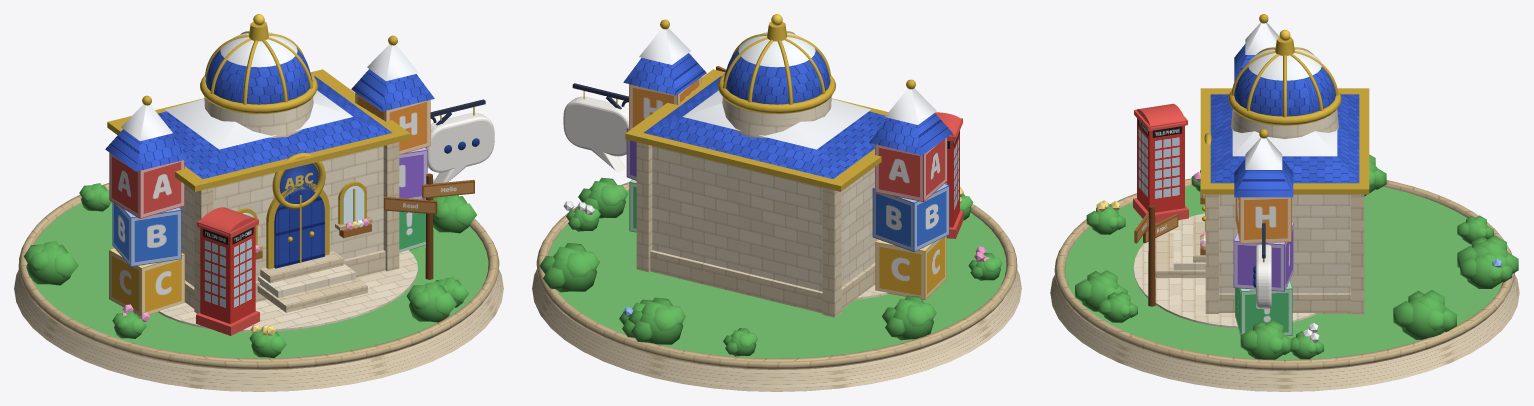
The model's file is bldg-anglais.glb.
3 views of the same model, side by side, from view 1: azimuth 30°, elevation 25°; view 2: azimuth 150°, elevation 25°; view 3: azimuth 270°, elevation 25° (orthographic). The views are drawn at different scales.
Parts seen in each view (by area): view 1: bldg-anglais, snow (×4), signboard_anglais_1, signboard_anglais_0; view 2: bldg-anglais, snow (×4); view 3: bldg-anglais, snow (×4), signboard_anglais_1.
Boxes of the visible parts, x1,y1,x2,y2 form: bldg-anglais: (14, 14, 503, 391); snow (×4): (121, 32, 418, 149); signboard_anglais_1: (384, 196, 437, 214); signboard_anglais_0: (422, 179, 474, 198); bldg-anglais: (532, 14, 1021, 391); snow (×4): (639, 28, 936, 149); bldg-anglais: (1050, 14, 1519, 391); snow (×4): (1232, 22, 1337, 169); signboard_anglais_1: (1143, 214, 1178, 243).
Bounding box in the file's own units: 7.93 × 4.79 × 7.76.
36 materials, 17 textured.
